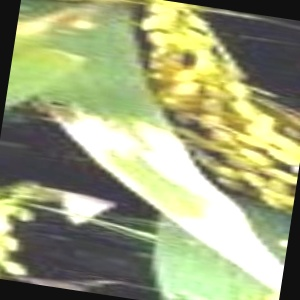Leaf_Blast: (69, 118, 221, 207)
